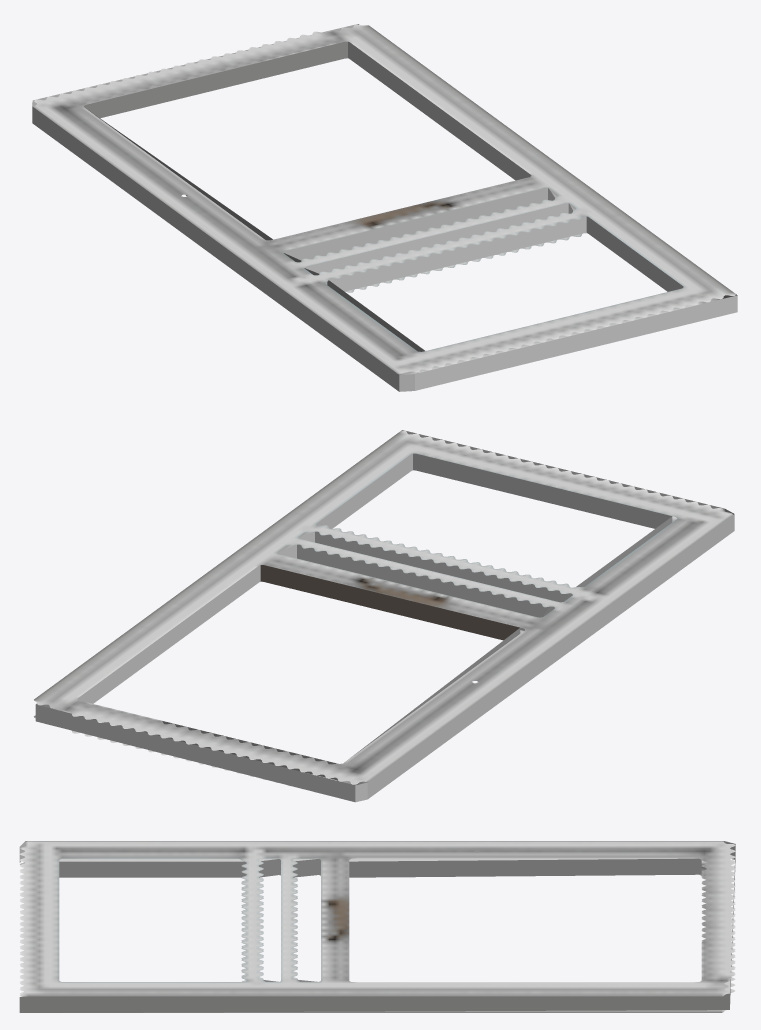
Rendered from pz_native_fixtures_windows_white_49_frame.obj.
The picture shows the model from 3 angles, top to bottom: view 1: azimuth 30°, elevation 25°; view 2: azimuth 150°, elevation 25°; view 3: azimuth 270°, elevation 25°; orthographic projection. The views are drawn at different scales.
Parts seen in each view (by area): view 1: pz_native_fixtures_windows_white_49_frame; view 2: pz_native_fixtures_windows_white_49_frame; view 3: pz_native_fixtures_windows_white_49_frame.
Boxes of the visible parts, left/top/right/bottom form: pz_native_fixtures_windows_white_49_frame: left=32, top=24, right=737, bottom=391; pz_native_fixtures_windows_white_49_frame: left=34, top=430, right=734, bottom=802; pz_native_fixtures_windows_white_49_frame: left=19, top=841, right=735, bottom=1012.
Bounding box in the file's own units: 0.8594 × 0.04 × 1.65.
Materials: 1 (1 with a texture image).
